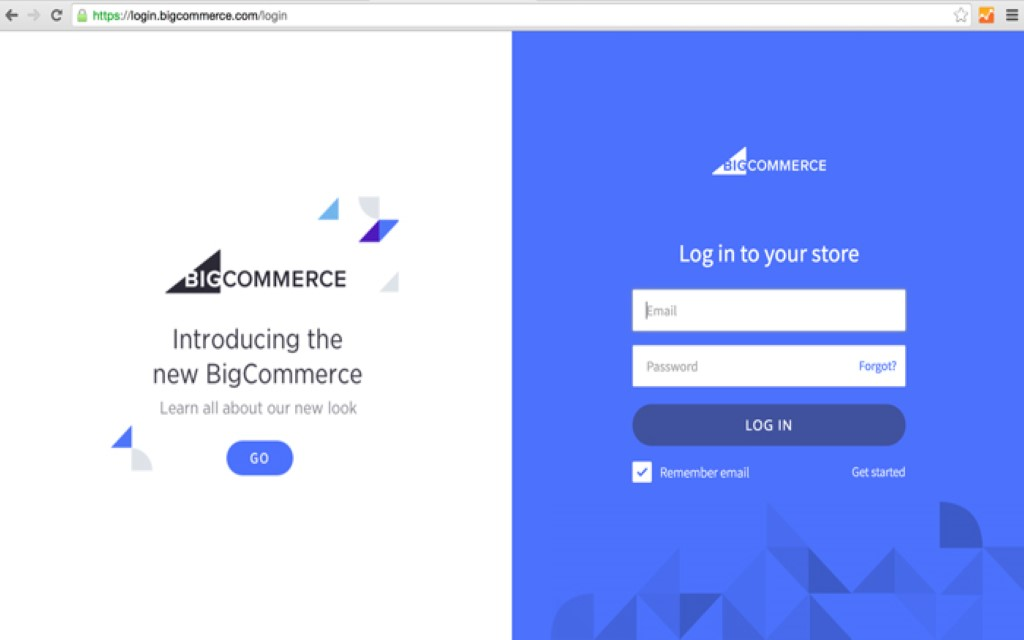button: (633, 404, 905, 447), (226, 441, 293, 475)
button_login: (634, 405, 903, 449)
checkbox: (632, 462, 652, 483)
checkbox_remember: (632, 459, 758, 486)
label_Login: (740, 415, 796, 437)
label_email: (643, 303, 680, 318)
label_password: (645, 357, 703, 374)
label_remember: (656, 463, 722, 485)
textbox: (632, 290, 907, 332), (632, 345, 906, 387)
textbox_Email: (632, 289, 905, 333)
textbox_Password: (632, 346, 908, 386)
